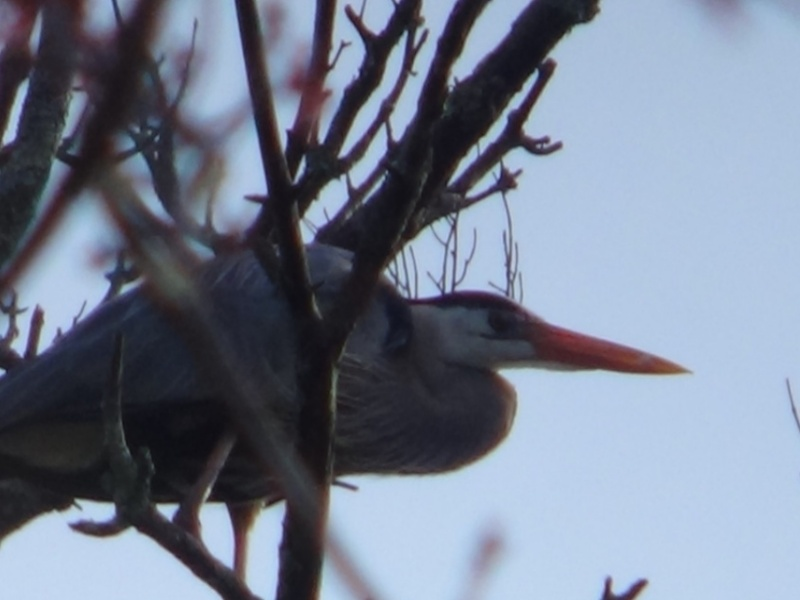heron: (3, 236, 698, 509)
